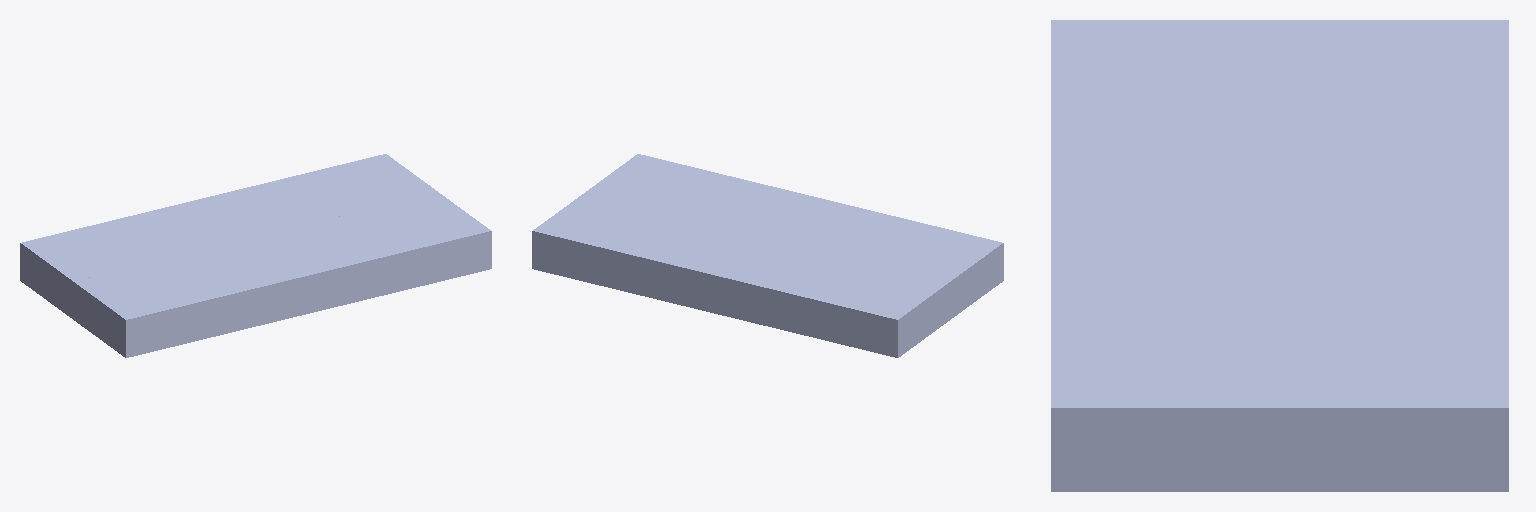
The robot description file, URDF, robot "piano":
<?xml version="1.0" encoding="utf-8"?>
<!-- This URDF was automatically created by SolidWorks to URDF Exporter! Originally created by [author] ([email redacted]) 
     Commit Version: 1.6.0-1-g15f4949  Build Version: 1.6.7594.29634
     For more information, please see http://wiki.ros.org/sw_urdf_exporter -->
<robot
  name="piano">
  <link
    name="base_link">
    <inertial>
      <origin
        xyz="0.0332395359487273 0.0479396606130252 0.0818001639870704"
        rpy="0 0 0" />
      <mass
        value="0.025" />
      <inertia
        ixx="1.51041666666667E-06"
        ixy="-7.259847083974E-38"
        ixz="2.63850763069715E-21"
        iyy="2.21354166666667E-05"
        iyz="1.3234889800848E-23"
        izz="2.10416666666667E-05" />
    </inertial>
    <visual>
      <origin
        xyz="0 0 0"
        rpy="0 0 0" />
      <geometry>
        <mesh
          filename="package://piano/meshes/base_link.STL" />
      </geometry>
      <material
        name="">
        <color
          rgba="0.792156862745098 0.819607843137255 0.933333333333333 1" />
      </material>
    </visual>
    <collision>
      <origin
        xyz="0 0 0"
        rpy="0 0 0" />
      <geometry>
        <mesh
          filename="package://piano/meshes/base_link.STL" />
      </geometry>
    </collision>
  </link>
  <link
    name="Empty_Link">
    <inertial>
      <origin
        xyz="-6.9389E-18 0.005 -6.9389E-18"
        rpy="0 0 0" />
      <mass
        value="0.025" />
      <inertia
        ixx="1.5104E-06"
        ixy="6.3753E-38"
        ixz="2.6385E-21"
        iyy="2.2135E-05"
        iyz="1.3235E-23"
        izz="2.1042E-05" />
    </inertial>
    <visual>
      <origin
        xyz="0 0 0"
        rpy="0 0 0" />
      <geometry>
        <mesh
          filename="package://piano/meshes/Empty_Link.STL" />
      </geometry>
      <material
        name="">
        <color
          rgba="0.79216 0.81961 0.93333 1" />
      </material>
    </visual>
    <collision>
      <origin
        xyz="0 0 0"
        rpy="0 0 0" />
      <geometry>
        <mesh
          filename="package://piano/meshes/Empty_Link.STL" />
      </geometry>
    </collision>
  </link>
  <joint
    name="dummy joint"
    type="fixed">
    <origin
      xyz="0.03324 -0.0568 0.04294"
      rpy="1.5708 0 0" />
    <parent
      link="base_link" />
    <child
      link="Empty_Link" />
    <axis
      xyz="0 0 0" />
  </joint>
</robot>

--- What the picture shows (computed from the rendered views, not written in the file) ---
Views: 3 orthographic renders of the robot side by side, from view 1: azimuth 30°, elevation 25°; view 2: azimuth 150°, elevation 25°; view 3: azimuth 270°, elevation 25°.
Model piano with 2 links and 1 joints (1 fixed), rooted at base_link, posed all joints at 0.
Links seen in each view (by area): view 1: base_link, Empty_Link; view 2: Empty_Link, base_link; view 3: base_link, Empty_Link.
Boxes of the visible links, x1,y1,x2,y2 form: base_link: [73, 192, 491, 357]; Empty_Link: [20, 154, 437, 318]; Empty_Link: [532, 192, 950, 357]; base_link: [586, 154, 1003, 318]; base_link: [1051, 20, 1279, 491]; Empty_Link: [1280, 20, 1508, 491].
Bounding box of the posed robot: 0.1 × 0.05 × 0.01 m (x, y, z).
Meshes: 2 distinct files referenced, 2 mesh visuals loaded (2 binary STL).